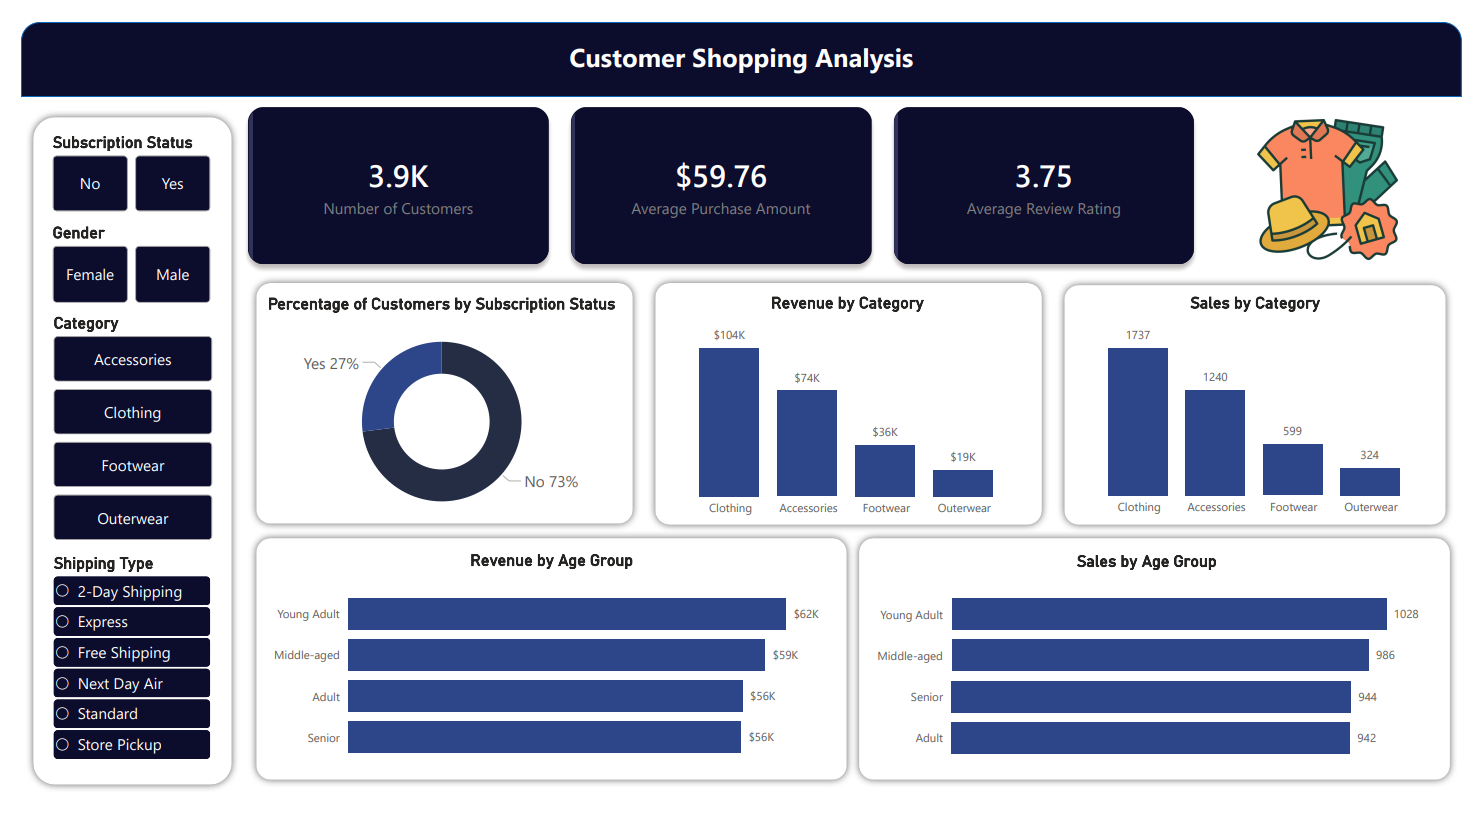

This screenshot's page, from the dashboard's own definition file:
{"tool":"powerbi","page":{"name":"Main Overview","canvas":[1500,820],"ordinal":0},"visuals":[{"type":"cardVisual","fields":{"Data":["public customer.Number of Customers","public customer.Average Purchase Amount","public customer.Average Review Rating"]},"box":[215,67,1030,207],"z":0},{"type":"shape","box":[231.7,530,640,271.3],"z":0,"group":"g1"},{"type":"shape","box":[860,530,640,271.3],"z":0,"group":"g2"},{"type":"shape","box":[232,264,416.7,271.3],"z":1000},{"type":"group","id":"g1","title":"Group 3","box":[231.7,530,640,271.7],"z":2000},{"type":"shape","box":[0,0,1500,78.3],"z":3000,"group":"g4"},{"type":"group","id":"g2","title":"Group 3","box":[860,530,640,271.7],"z":3000},{"type":"textbox","box":[392.1,12.9,715.7,54.3],"z":4000,"group":"g4"},{"type":"shape","box":[0,92,232,714],"z":4000},{"type":"shape","box":[1074,266,422,270],"z":4000,"group":"g3"},{"type":"advancedSlicerVisual","fields":{"Values":["public customer.subscription_status"]},"box":[28.3,115,175,88.3],"z":5000},{"type":"group","id":"g3","title":"Group 1","box":[1074,266,422,270],"z":6000},{"type":"clusteredColumnChart","title":"Sales by Category","fields":{"Category":["public customer.category"],"Y":["CountNonNull(public customer.customer_id)"]},"box":[1095,282.4,380,240.2],"z":6000,"group":"g3"},{"type":"donutChart","title":"Percentage of Customers by Subscription Status","fields":{"Category":["public customer.subscription_status"],"Y":["CountNonNull(public customer.customer_id)"]},"box":[237.1,282.9,401.4,247.1],"z":7000},{"type":"shape","box":[648,264,426.9,272],"z":8000},{"type":"clusteredColumnChart","title":"Revenue by Category","fields":{"Category":["public customer.category"],"Y":["Sum(public customer.purchase_amount)"]},"box":[668.6,282.3,383.8,241.7],"z":9000},{"type":"advancedSlicerVisual","fields":{"Values":["public customer.category"]},"box":[28.8,303.4,175,244],"z":11000},{"type":"listSlicer","fields":{"Values":["public customer.shipping_type"]},"box":[29.3,553.2,185.8,220.7],"z":12000},{"type":"clusteredBarChart","title":"Revenue by Age Group","fields":{"Y":["Sum(public customer.purchase_amount)"],"Category":["public customer.age_group"]},"box":[253.3,550,598.3,235],"z":13000},{"type":"clusteredBarChart","title":"Sales by Age Group","fields":{"Category":["public customer.age_group"],"Y":["CountNonNull(public customer.customer_id)"]},"box":[880.8,550.5,581.7,235],"z":14000},{"type":"image","box":[1245,95,230,158.3],"z":15000},{"type":"group","id":"g4","title":"Group 4","box":[0,0,1500,78.3],"z":16000},{"type":"advancedSlicerVisual","fields":{"Values":["public customer.gender"]},"box":[28.3,209.2,175,88.3],"z":18000}]}

Visuals, with their boxes in screenshot pixels (x1, y1, x2, y2), scaled from the page's 1500x820 canvas onto the 1483x832 screenshot:
cardVisual - public customer.Number of Customers x public customer.Average Purchase Amount: (left=213, top=68, right=1231, bottom=278)
shape: (left=229, top=538, right=862, bottom=813)
shape: (left=850, top=538, right=1482, bottom=813)
shape: (left=229, top=268, right=641, bottom=543)
"Group 3" group: (left=229, top=538, right=862, bottom=813)
shape: (left=0, top=0, right=1482, bottom=79)
"Group 3" group: (left=850, top=538, right=1482, bottom=813)
textbox: (left=388, top=13, right=1095, bottom=68)
shape: (left=0, top=93, right=229, bottom=818)
shape: (left=1062, top=270, right=1479, bottom=544)
advancedSlicerVisual - public customer.subscription_status: (left=28, top=117, right=201, bottom=206)
"Group 1" group: (left=1062, top=270, right=1479, bottom=544)
"Sales by Category" clusteredColumnChart: (left=1083, top=287, right=1458, bottom=530)
"Percentage of Customers by Subscription Status" donutChart: (left=234, top=287, right=631, bottom=538)
shape: (left=641, top=268, right=1063, bottom=544)
"Revenue by Category" clusteredColumnChart: (left=661, top=286, right=1040, bottom=532)
advancedSlicerVisual - public customer.category: (left=28, top=308, right=201, bottom=555)
listSlicer - public customer.shipping_type: (left=29, top=561, right=213, bottom=785)
"Revenue by Age Group" clusteredBarChart: (left=250, top=558, right=842, bottom=796)
"Sales by Age Group" clusteredBarChart: (left=871, top=559, right=1446, bottom=797)
image: (left=1231, top=96, right=1458, bottom=257)
"Group 4" group: (left=0, top=0, right=1482, bottom=79)
advancedSlicerVisual - public customer.gender: (left=28, top=212, right=201, bottom=302)
